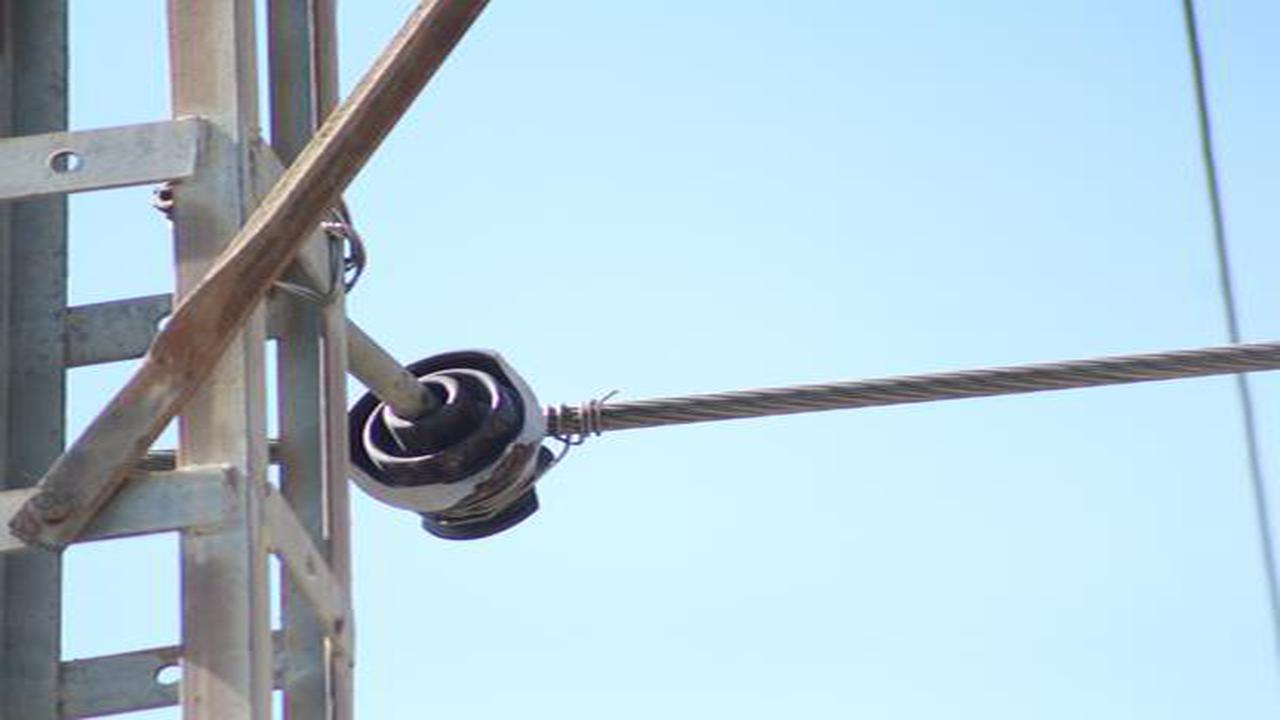defect_pin: (348, 348, 558, 545)
